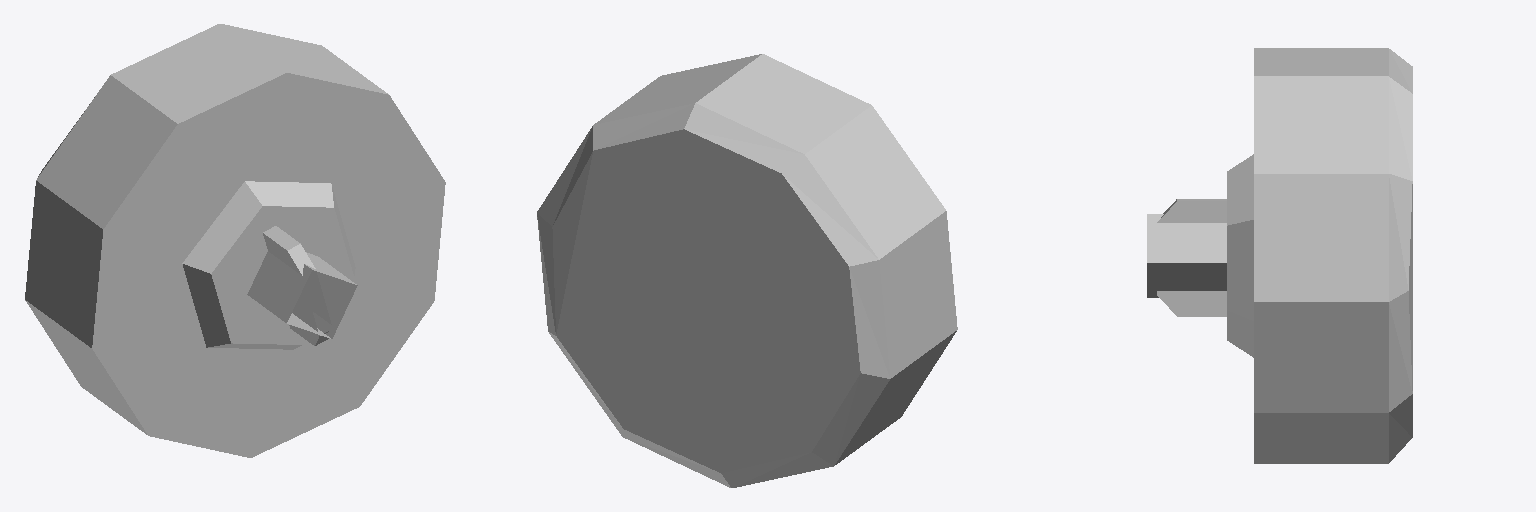
Rendered from wheel228.obj.
The picture shows the model from 3 angles: view 1: azimuth 30°, elevation 25°; view 2: azimuth 150°, elevation 25°; view 3: azimuth 270°, elevation 25°; orthographic projection.
Visible parts, largest first — view 1: wheel_low_textures; view 2: wheel_low_textures; view 3: wheel_low_textures.
Boxes of the visible parts, <box> form: wheel_low_textures: <box>25,24,445,457</box>; wheel_low_textures: <box>537,54,957,487</box>; wheel_low_textures: <box>1147,48,1412,463</box>.
Size of the model in its own units: 1.53 by 1.55 by 0.9907.